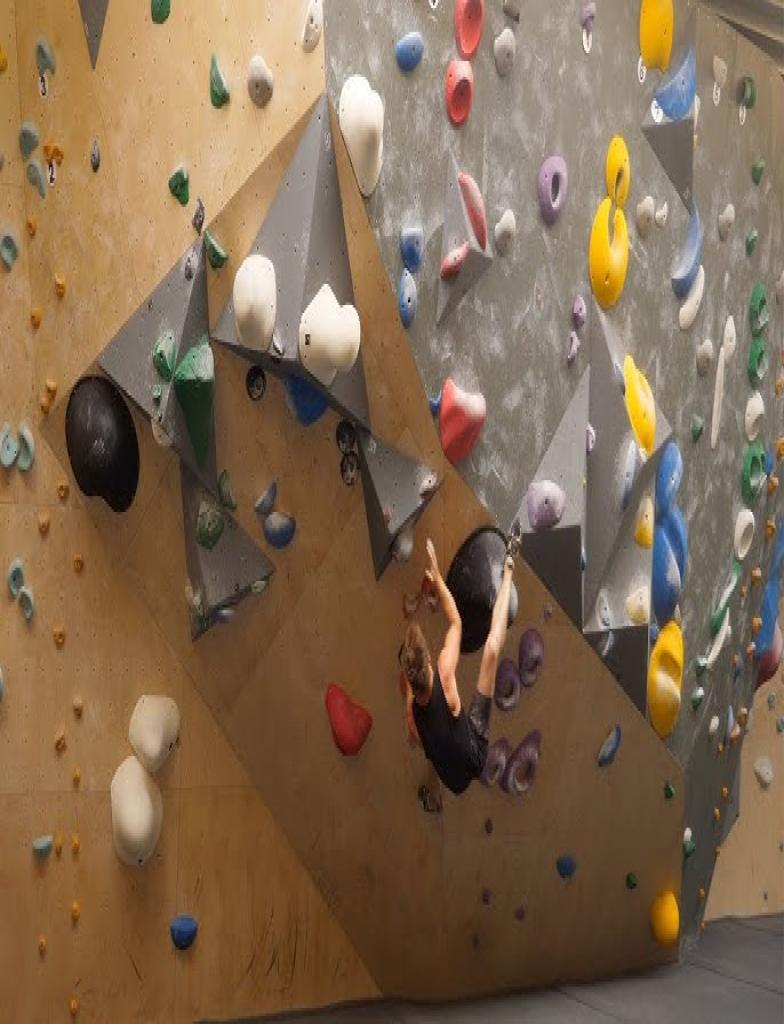downhold: (494, 27, 515, 74), (494, 210, 515, 255), (635, 196, 654, 236)
jug: (439, 377, 485, 462), (526, 480, 565, 531), (445, 58, 473, 122), (399, 225, 424, 271), (395, 32, 423, 72)
pinch: (457, 170, 486, 249), (441, 244, 469, 279)
pocket: (499, 730, 539, 793), (538, 154, 567, 223), (480, 737, 510, 785), (519, 629, 543, 684), (495, 658, 520, 708)
sidepull: (398, 268, 416, 326)
sloper: (66, 374, 138, 512), (301, 284, 360, 385), (339, 74, 385, 196), (111, 756, 162, 860), (233, 255, 277, 348), (128, 695, 179, 772)
